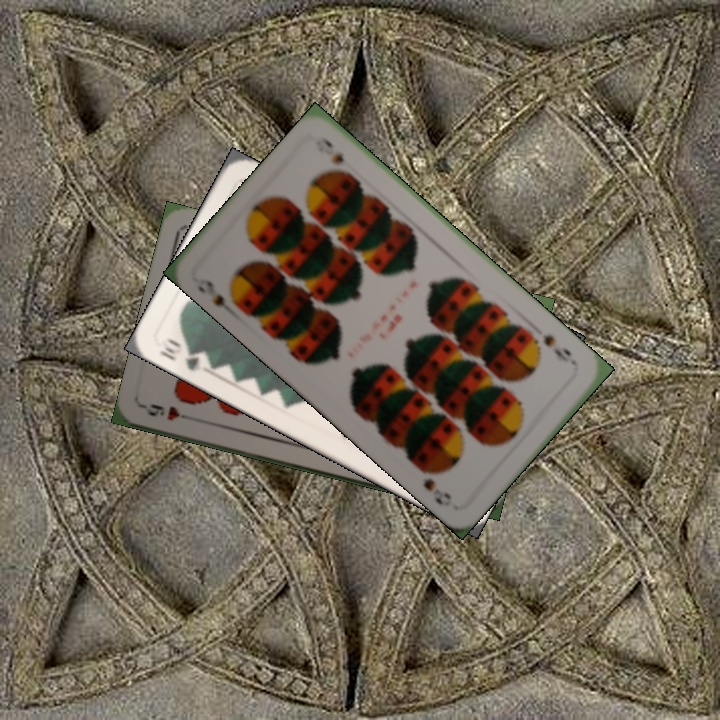G10: (155, 333, 202, 373)
H9: (140, 399, 198, 424)
S9: (194, 273, 239, 319), (538, 330, 581, 370)
